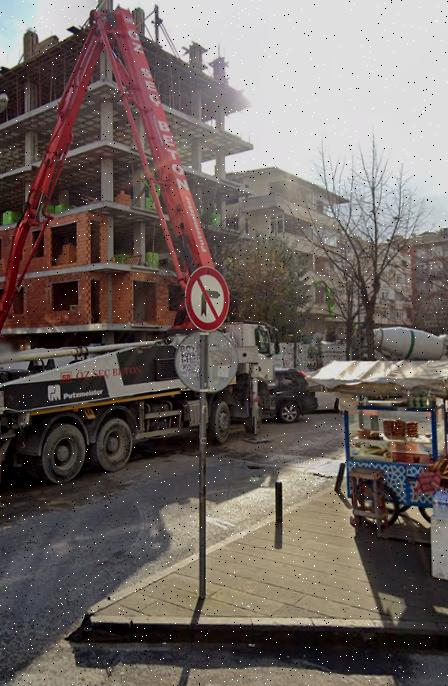rightturnsareforbidden: (190, 269, 229, 329)
